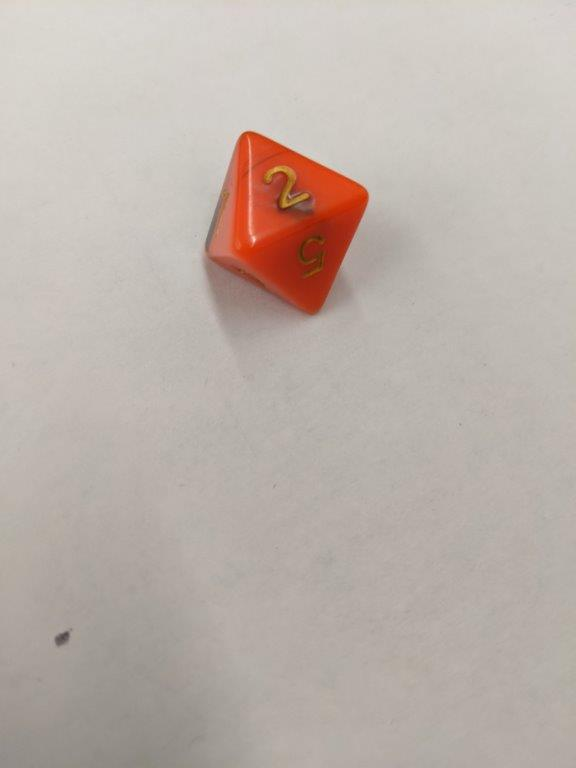d8-2: (202, 130, 373, 318)
